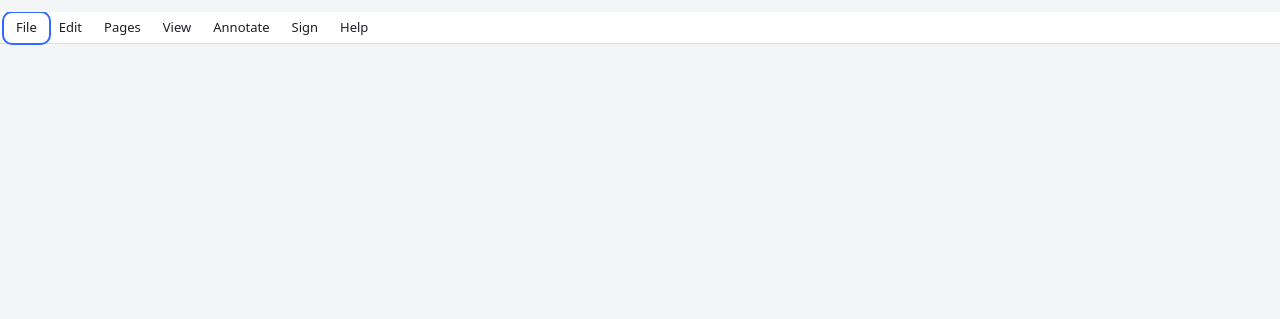
Test case: MenuBar › moves the roving tab stop with ArrowRight, sliding the open menu with it
Click the menu item "File" at (26, 28), box top-left (6, 14), bottom-right (47, 40)
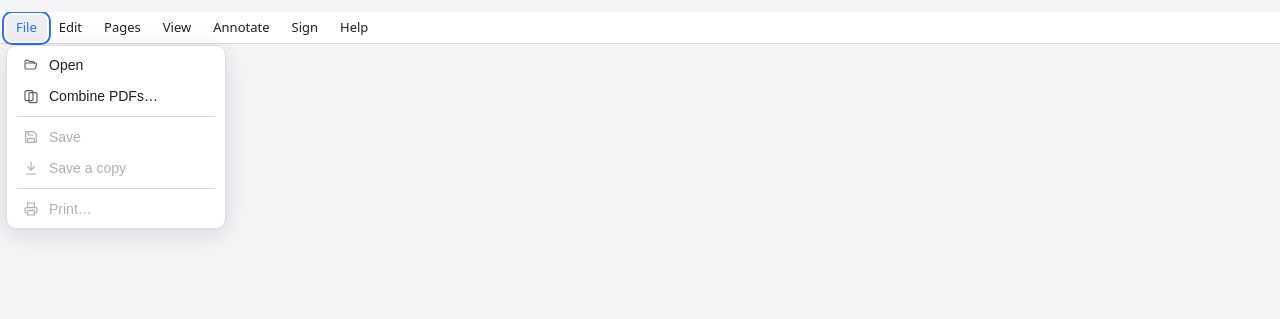
Press ArrowRight in the menu item "File", box top-left (6, 14), bottom-right (47, 40)
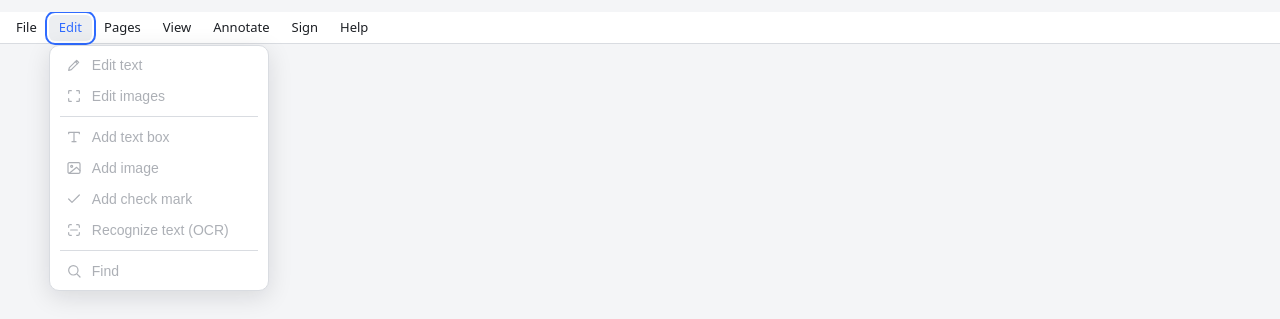
Expected: the menu item "Edit" is expanded, top-left (49, 14), bottom-right (92, 40)
Expected: the menu item "File" is collapsed, top-left (6, 14), bottom-right (47, 40)
